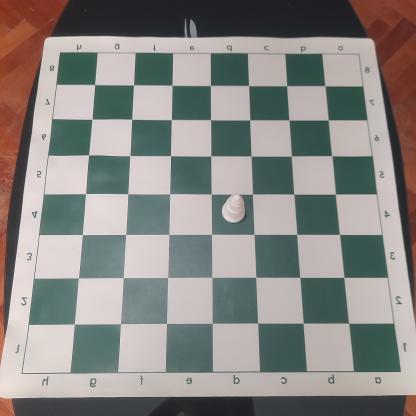white-bishop: (219, 193, 247, 224)
